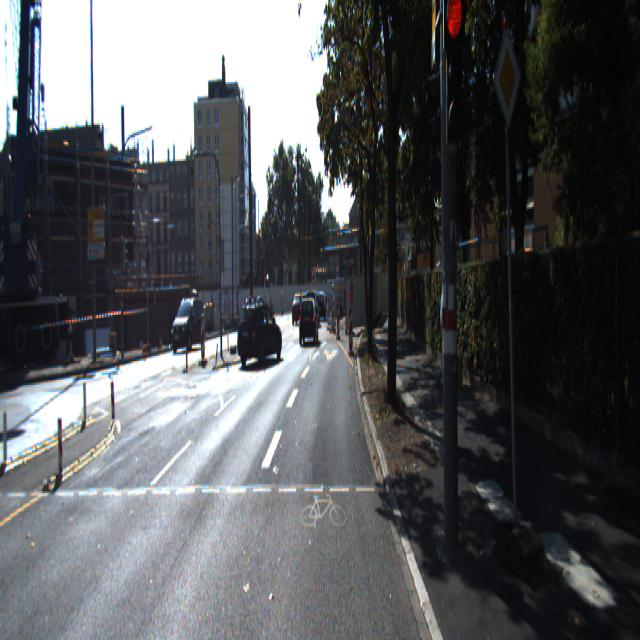Car: (234, 294, 283, 363), (170, 292, 206, 350), (298, 290, 318, 341), (292, 291, 306, 323)
